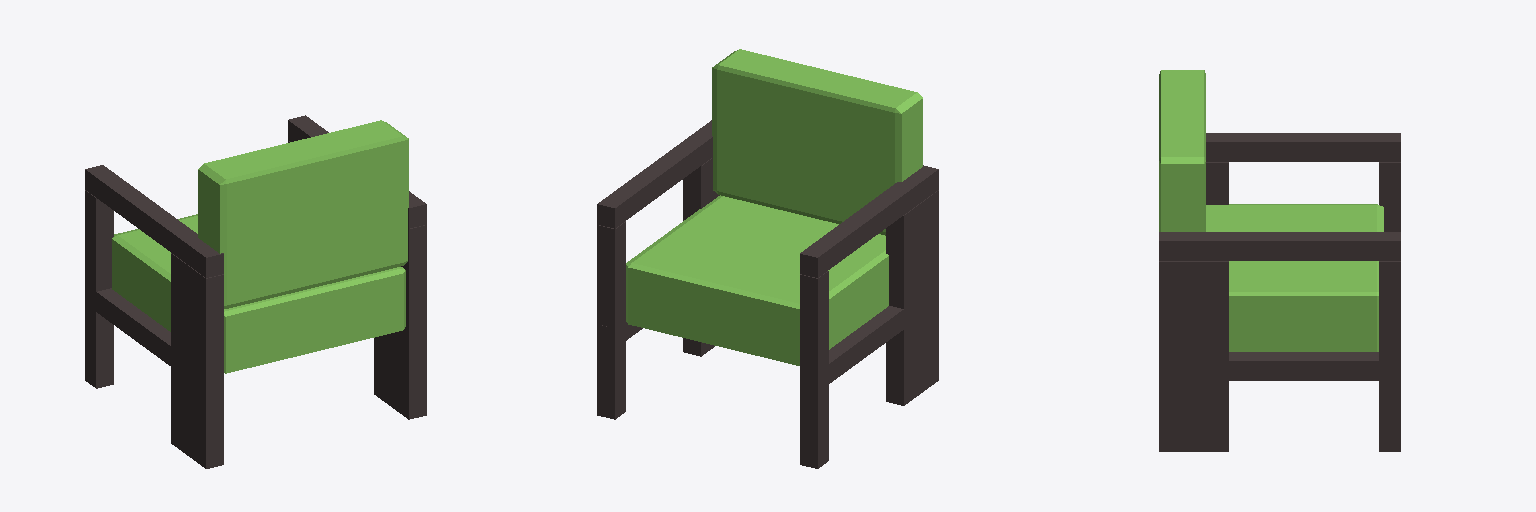
File: SittingChair.obj
The picture shows the model from 3 angles: view 1: azimuth 30°, elevation 25°; view 2: azimuth 150°, elevation 25°; view 3: azimuth 270°, elevation 25°; orthographic projection.
Parts seen in each view (by area): view 1: SittingChair; view 2: SittingChair; view 3: SittingChair.
Part boxes in pixels (x1,y1,x2,y2): SittingChair: (85, 115, 426, 468); SittingChair: (597, 49, 938, 468); SittingChair: (1159, 70, 1400, 451).
Size of the model in its own units: 1.46 by 1.8 by 1.39.